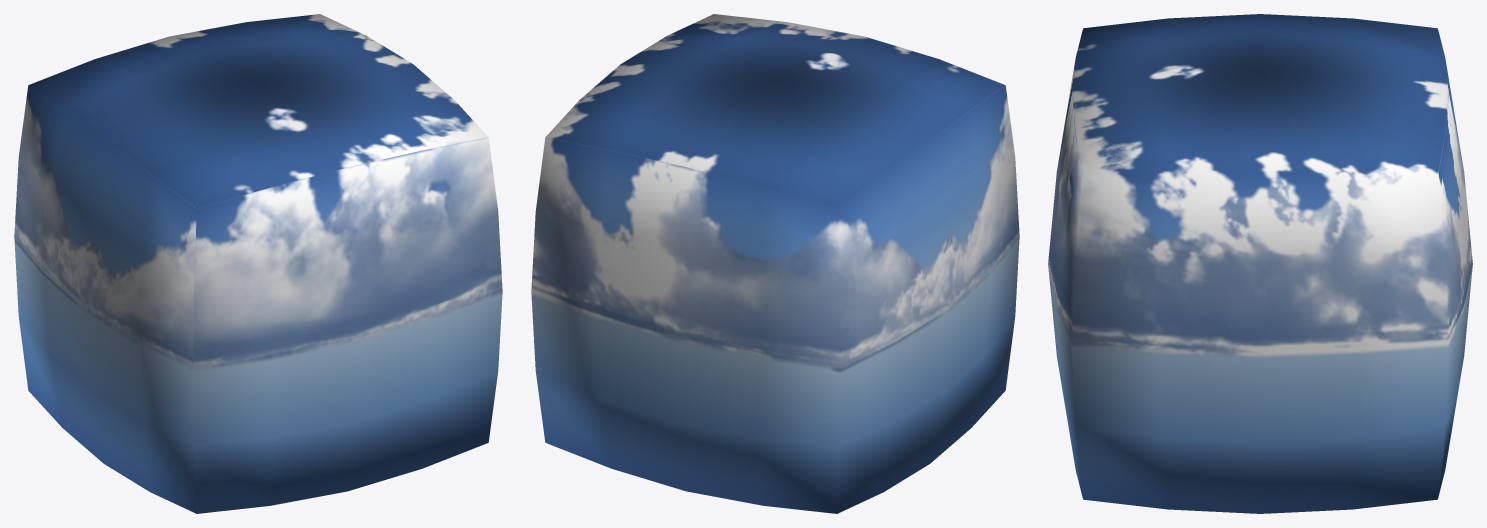
The model's file is CubeMap.fbx.
The picture shows the model from 3 angles, left to right: view 1: azimuth 30°, elevation 25°; view 2: azimuth 150°, elevation 25°; view 3: azimuth 270°, elevation 25°; orthographic projection. The views are drawn at different scales.
Parts seen in each view (by area): view 1: Fondo; view 2: Fondo; view 3: Fondo.
Boxes of the visible parts, x1,y1,x2,y2 form: Fondo: (14, 14, 502, 513); Fondo: (531, 14, 1019, 513); Fondo: (1048, 14, 1472, 513).
Size of the model in its own units: 29432 by 29432 by 29432.
1 material, 1 textured.
